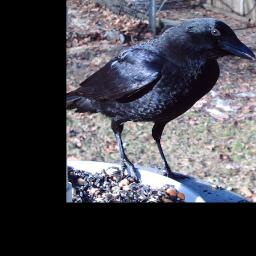Crow: (66, 18, 256, 183)
